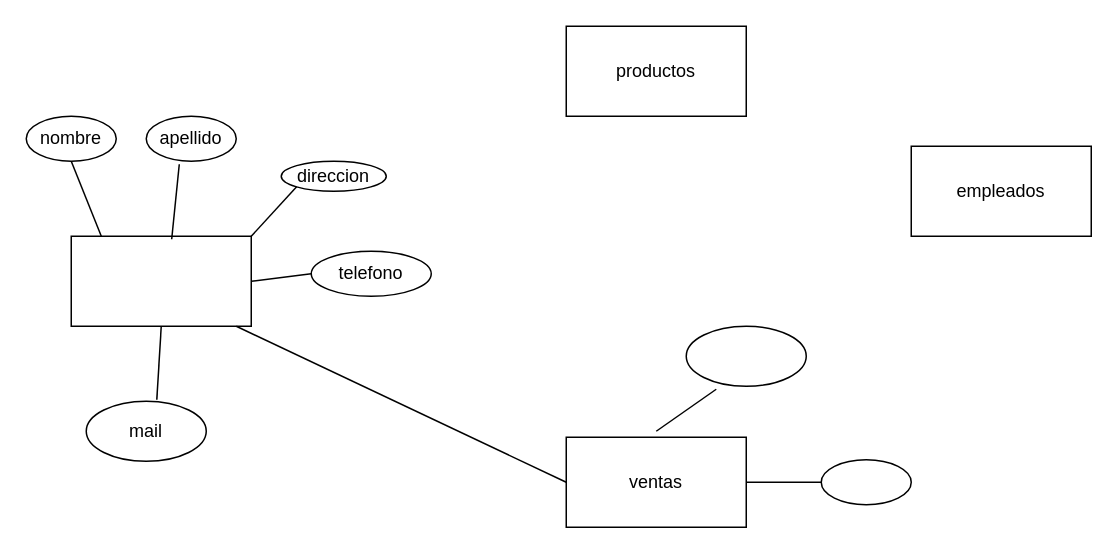
Some shapes in this 1118 by 554 pixel diagram are drawn without their labels. The centre of each missing label's shape, as x and y in pixels:
"clientes" belongs at (x=160, y=280).
"fecha" belongs at (x=865, y=481).
"producto" belongs at (x=745, y=355).
